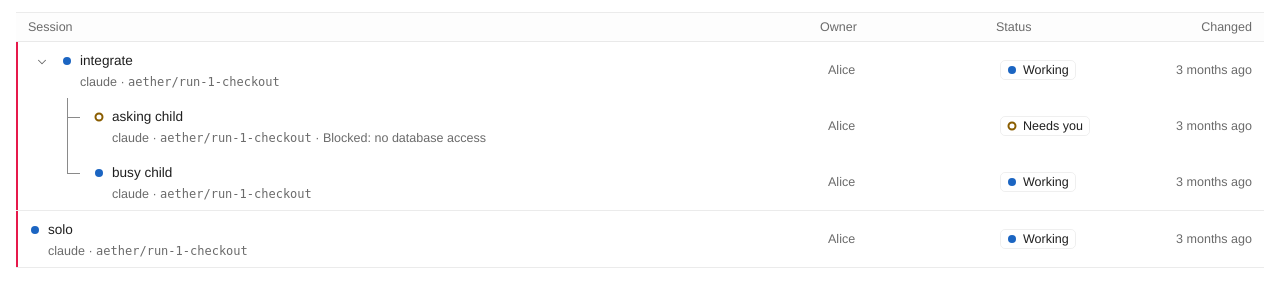
Test: run list family ordering › keeps a child run that needs you visible when its parent is folded
Click the button named "Hide 1 subsession": (42, 62) x1=30 y1=50 x2=54 y2=74
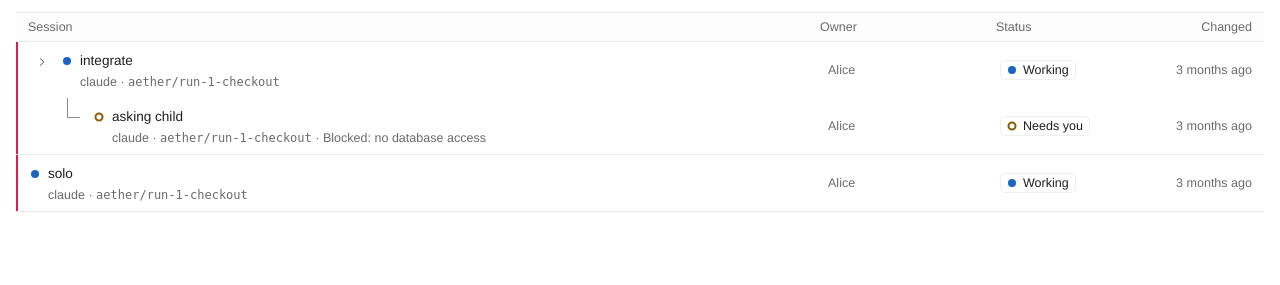
Check: the 10th text "asking child" is shown, box x1=112 y1=108 x2=183 y2=125
Check: the button named "Show 1 subsession" is collapsed, box x1=30 y1=50 x2=54 y2=74
